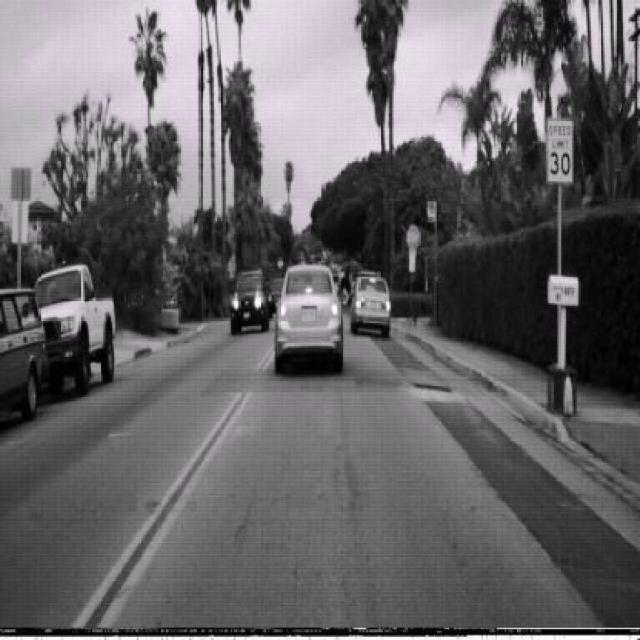stop: (406, 224, 420, 252)
